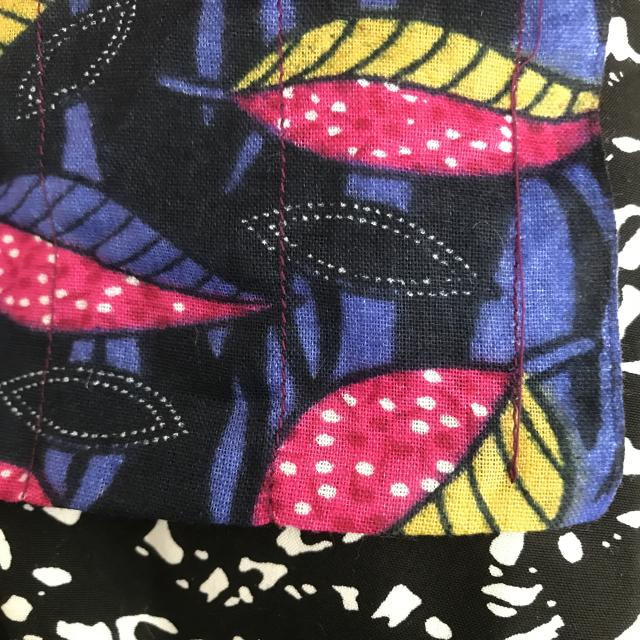good: (271, 153, 299, 351)
